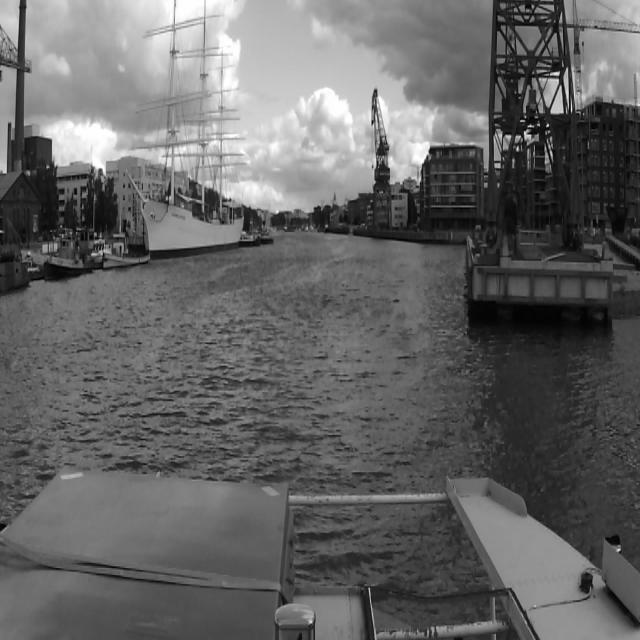ship: (152, 1, 244, 259), (45, 236, 93, 282), (102, 231, 150, 273), (240, 222, 258, 246), (255, 234, 277, 246)
